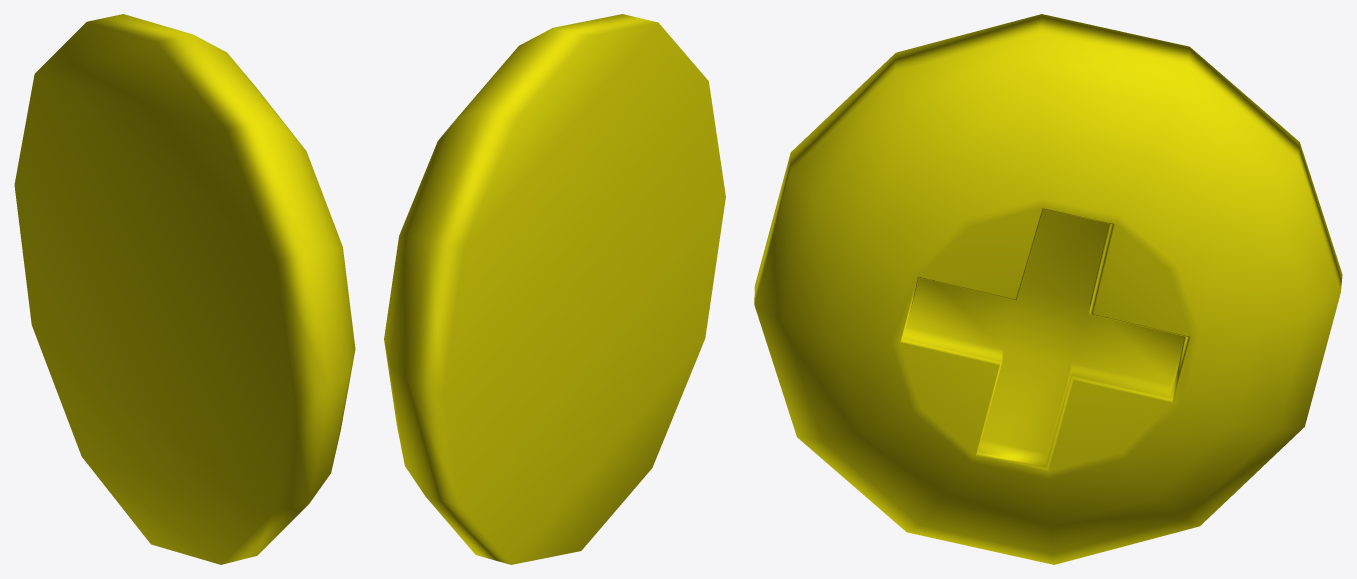
The model's file is Wide_Screw_B.fbx.
3 views of the same model, side by side, from view 1: azimuth 30°, elevation 25°; view 2: azimuth 150°, elevation 25°; view 3: azimuth 270°, elevation 25° (orthographic). The views are drawn at different scales.
Parts seen in each view (by area): view 1: Wide_Screw_B; view 2: Wide_Screw_B; view 3: Wide_Screw_B.
Part boxes in pixels (x1,y1,x2,y2): Wide_Screw_B: [14, 14, 355, 564]; Wide_Screw_B: [384, 14, 725, 564]; Wide_Screw_B: [754, 14, 1342, 564].
Size of the model in its own units: 0.197 by 0.82 by 0.8202.
